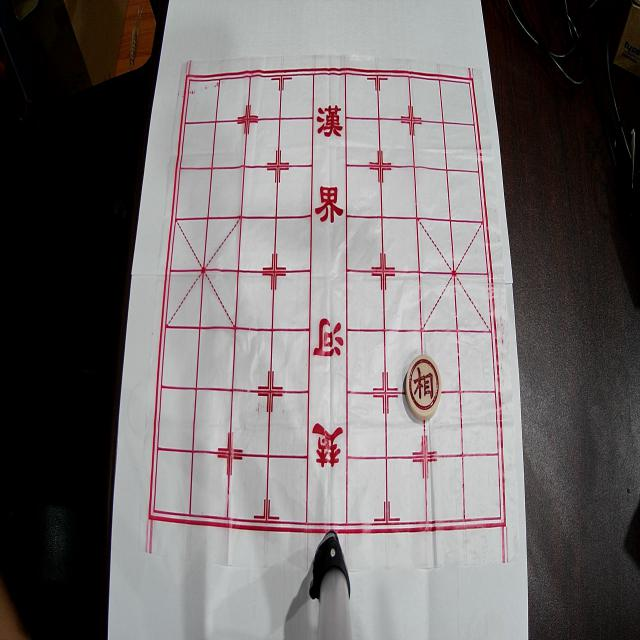red-elephant: (406, 355, 442, 420)
